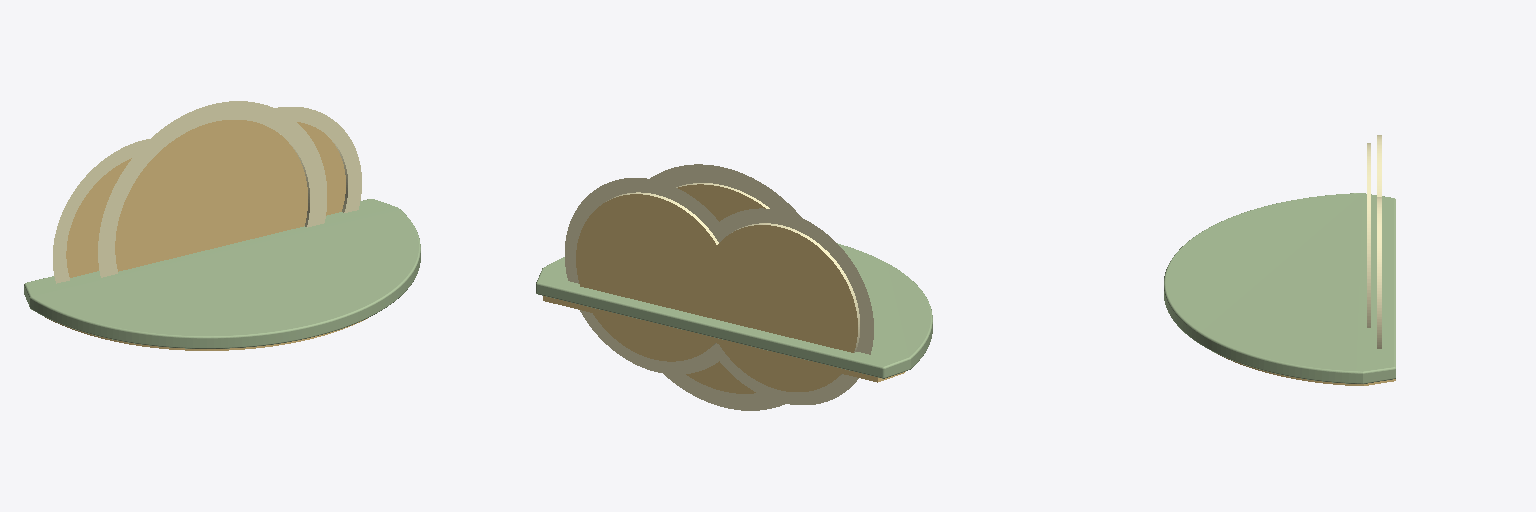
Rendered from podium.obj.
The picture shows the model from 3 angles: view 1: azimuth 30°, elevation 25°; view 2: azimuth 150°, elevation 25°; view 3: azimuth 270°, elevation 25°; orthographic projection.
Parts seen in each view (by area): view 1: Circle.001, Circle, Circle.002; view 2: Circle.002, Circle.001, Circle, Circle.003; view 3: Circle.001, Circle.002, Circle.
Boxes of the visible parts, <box> form: Circle.001: <box>24,199,420,348</box>; Circle: <box>98,101,326,277</box>; Circle.002: <box>53,107,361,283</box>; Circle.002: <box>565,178,873,404</box>; Circle.001: <box>536,243,932,378</box>; Circle: <box>650,164,801,410</box>; Circle.003: <box>543,296,905,382</box>; Circle.001: <box>1164,193,1395,383</box>; Circle.002: <box>1377,135,1381,348</box>; Circle: <box>1367,143,1370,327</box>.
Size of the model in its own units: 4.19 by 2.61 by 2.29.